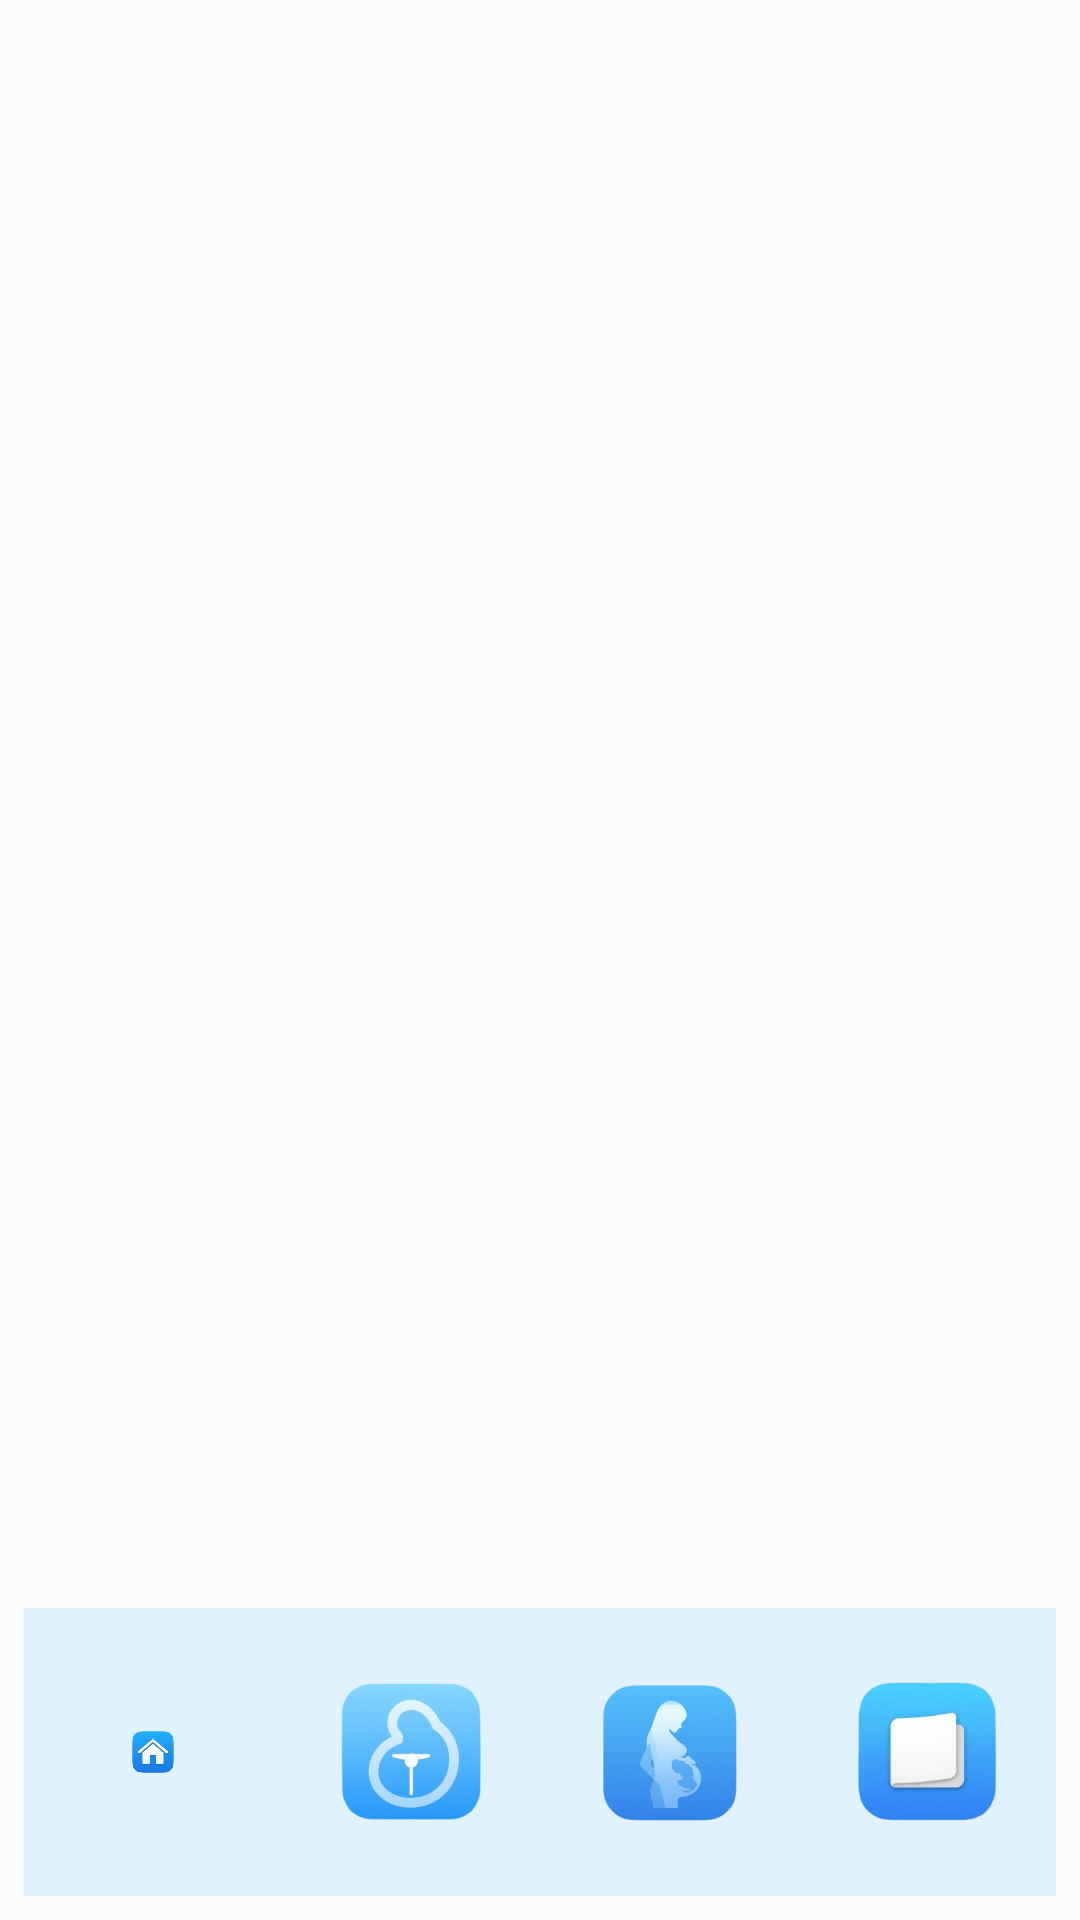

Icon click points for this 1080px×1920px phone screenshot, format [x,y]:
article: [927,1752]
baby growth: [411,1751]
body change: [670,1753]
home: [153,1752]
